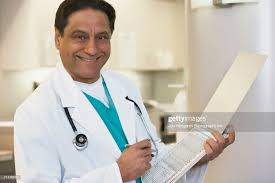Indian_Male: (61, 10, 114, 76)
